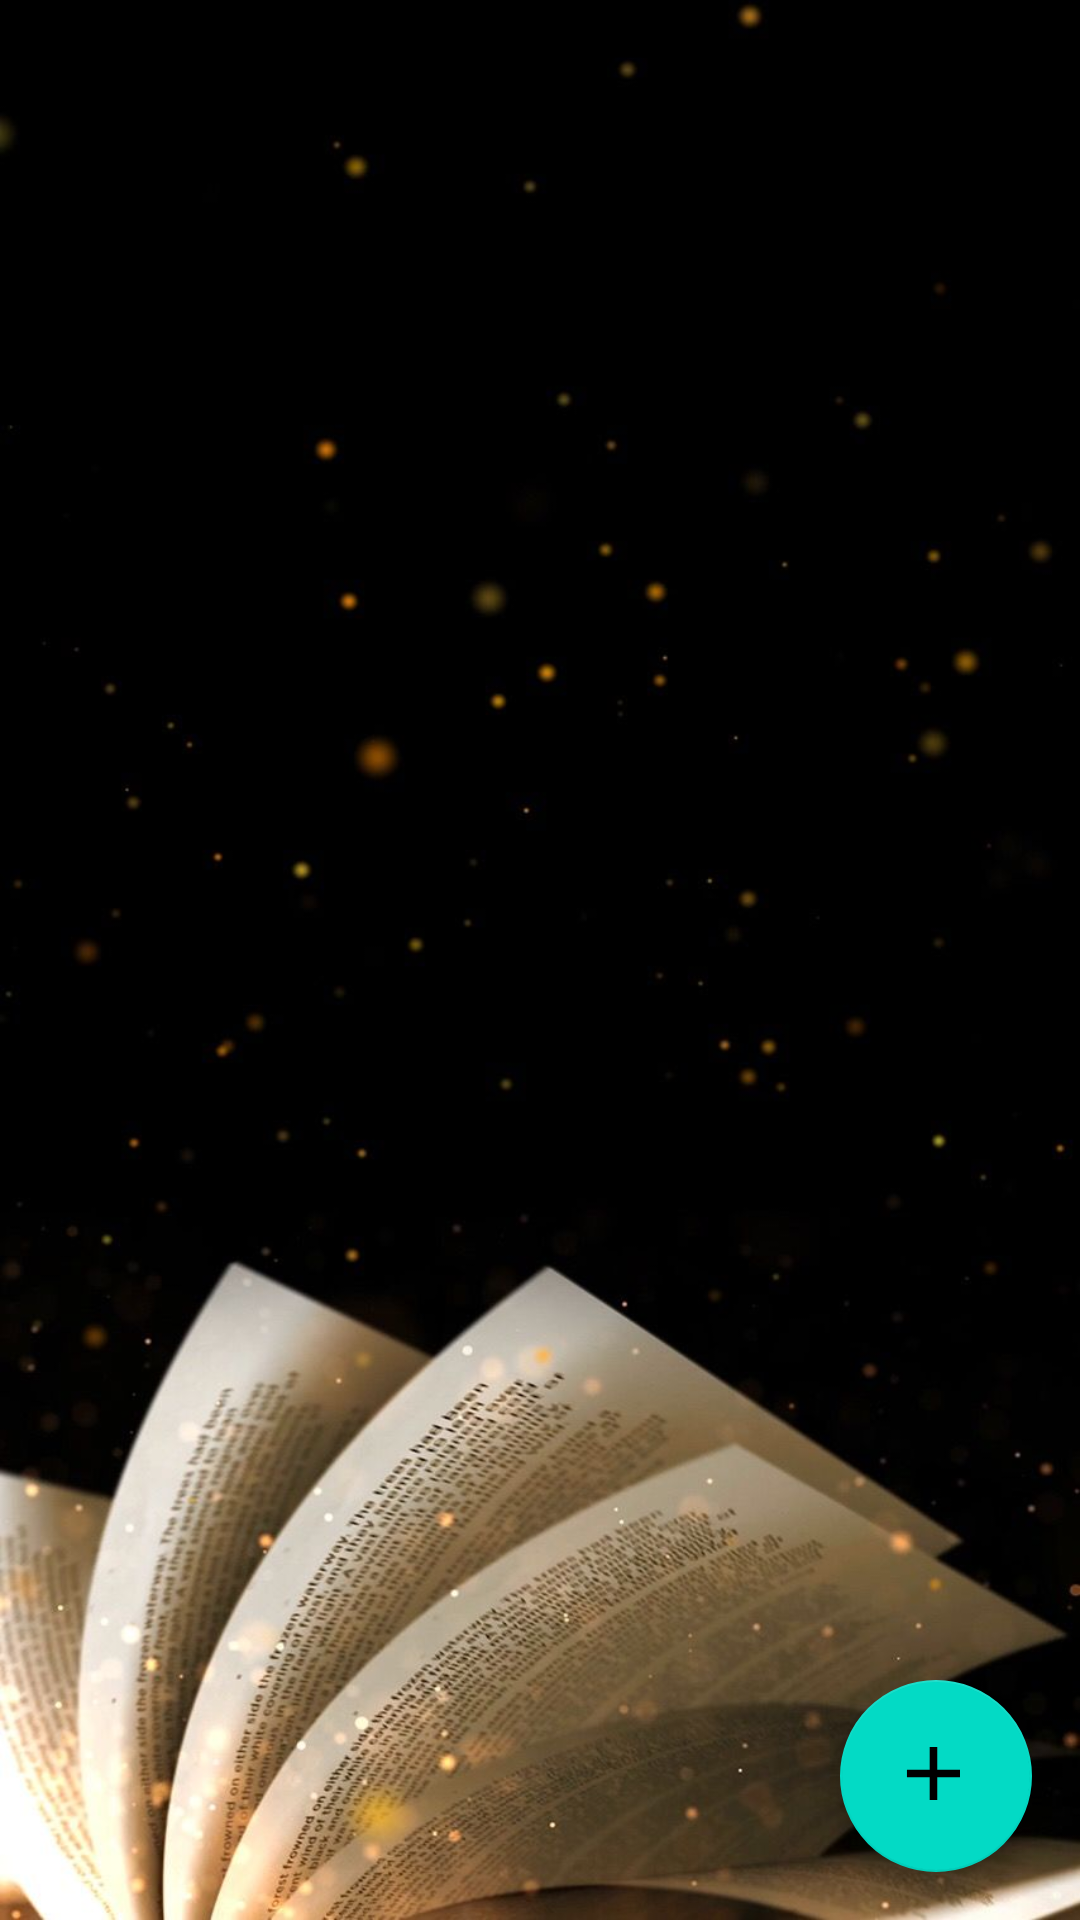

Screen size 1080*1920. Icon name, then its center in pixels as point (x, y):
add: point (936, 1776)
